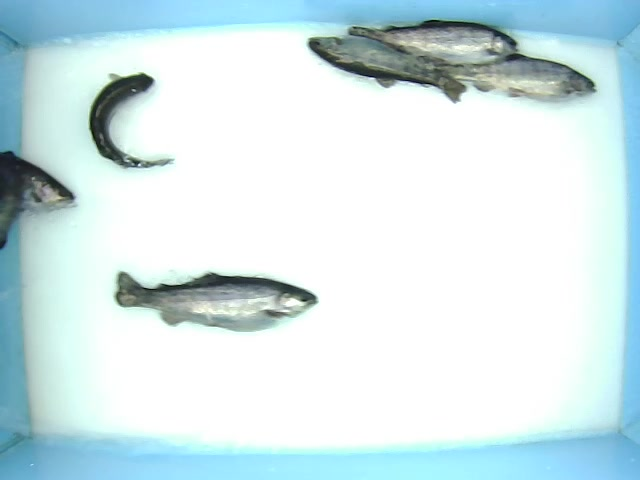fish: (112, 267, 319, 334), (301, 33, 465, 107), (82, 71, 180, 171), (415, 52, 598, 103), (346, 13, 519, 64)
